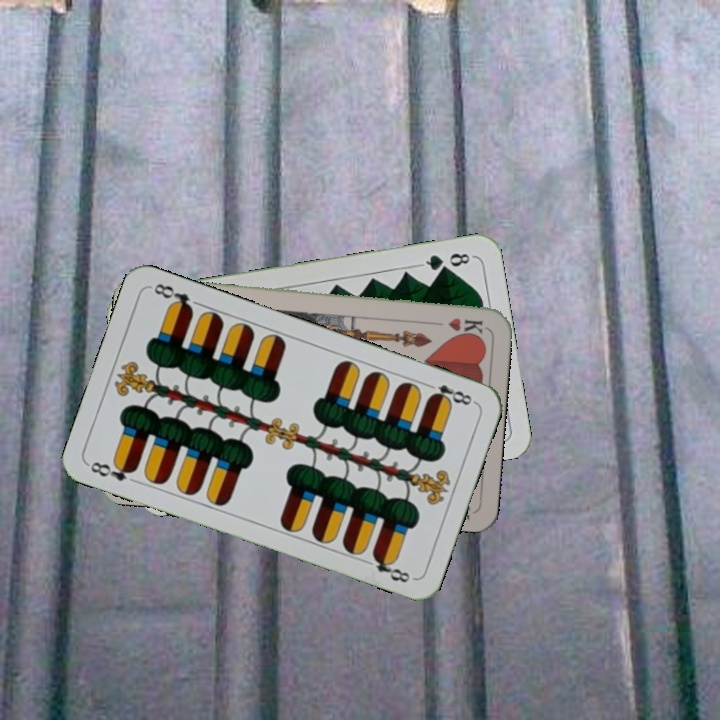E8: (421, 378, 478, 408), (84, 457, 140, 484)
G8: (417, 248, 476, 274)
HK: (427, 314, 486, 337)
